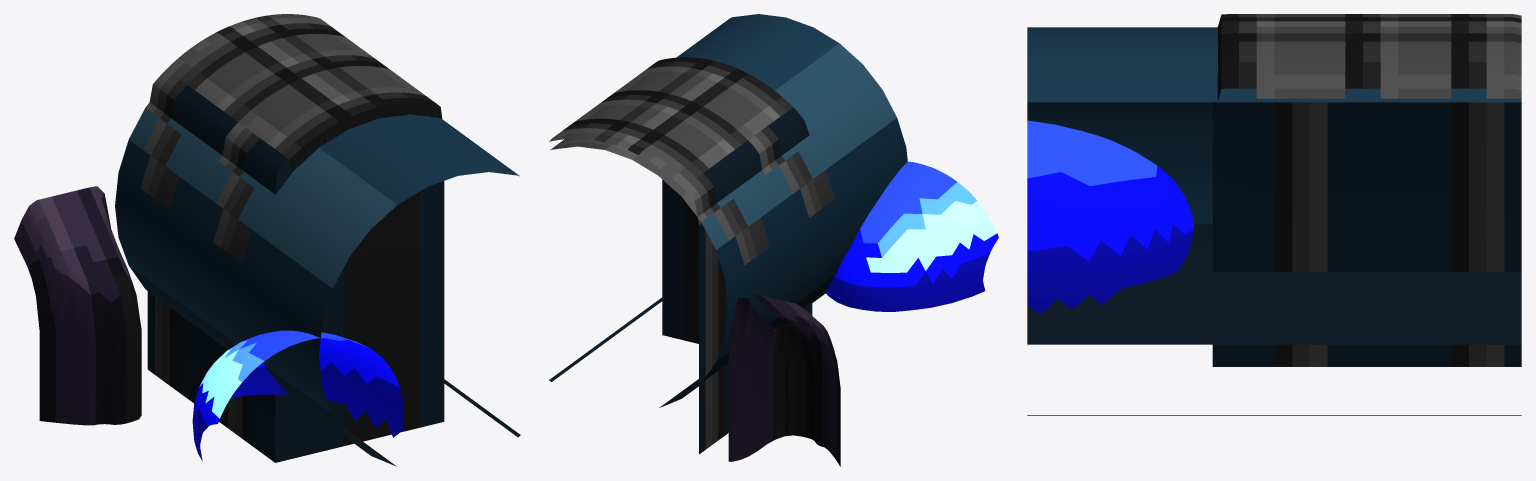
The model's file is camanis_boss_51.glb.
3 renders of one model, left to right at view 1: azimuth 30°, elevation 25°; view 2: azimuth 150°, elevation 25°; view 3: azimuth 270°, elevation 25°, orthographic. The views are drawn at different scales.
Visible parts, largest first — view 1: camanis_boss_51_tank_plate, camanis_boss_51_tank, camanis_boss_51_hood, camanis_boss_51_lamp; view 2: camanis_boss_51_tank, camanis_boss_51_tank_plate, camanis_boss_51_lamp, camanis_boss_51_hood; view 3: camanis_boss_51_tank_plate, camanis_boss_51_tank, camanis_boss_51_lamp.
Boxes of the visible parts, x1,y1,x2,y2 form: camanis_boss_51_tank_plate: (147,14,444,462); camanis_boss_51_tank: (115,102,520,466); camanis_boss_51_hood: (14,186,141,425); camanis_boss_51_lamp: (192,330,403,460); camanis_boss_51_tank: (549,14,907,407); camanis_boss_51_tank_plate: (549,57,812,454); camanis_boss_51_lamp: (825,161,998,311); camanis_boss_51_hood: (728,293,840,466); camanis_boss_51_tank_plate: (1212,14,1521,366); camanis_boss_51_tank: (1027,27,1521,415); camanis_boss_51_lamp: (1027,120,1193,314).
Size of the model in its own units: 23.98 by 24.75 by 27.98.
